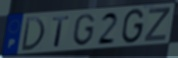2: (95, 11, 120, 45)
D: (20, 16, 47, 52)
G: (120, 8, 146, 45), (72, 13, 97, 48)
T: (51, 15, 71, 48)
Z: (143, 7, 172, 43)
